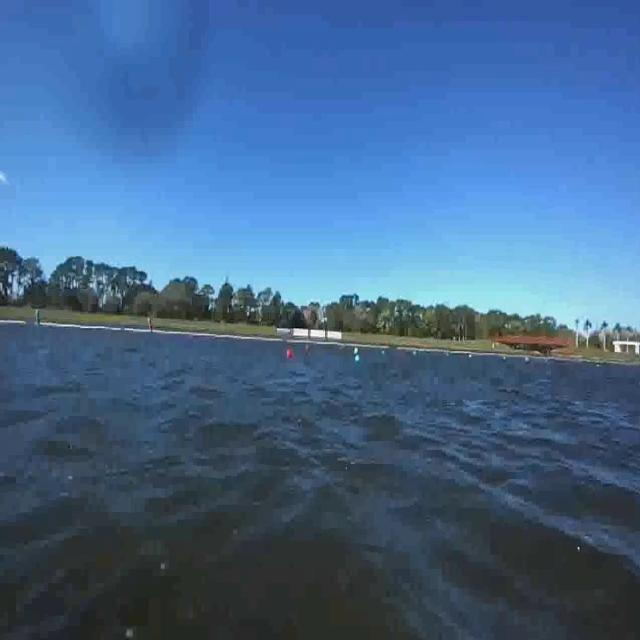green-buoy: (353, 350, 363, 362)
red-buoy: (285, 347, 295, 362)
